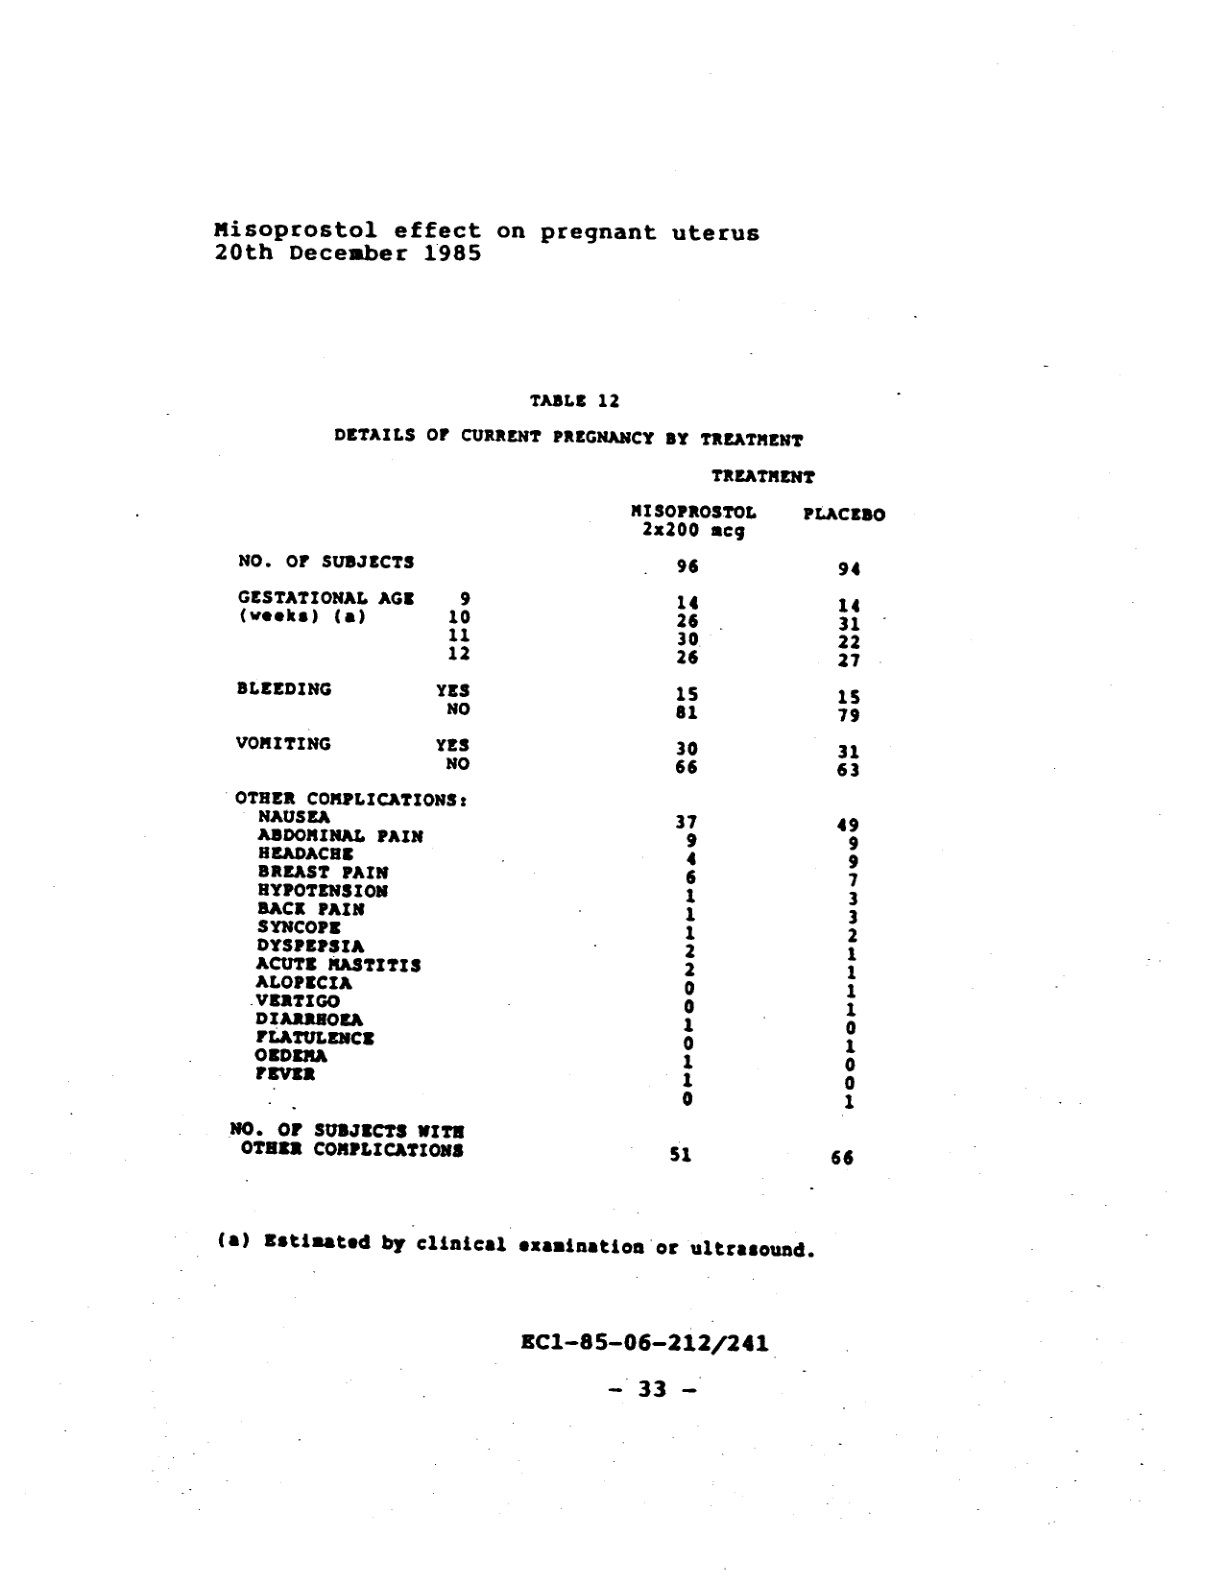nolines: (228, 504, 887, 1165)
